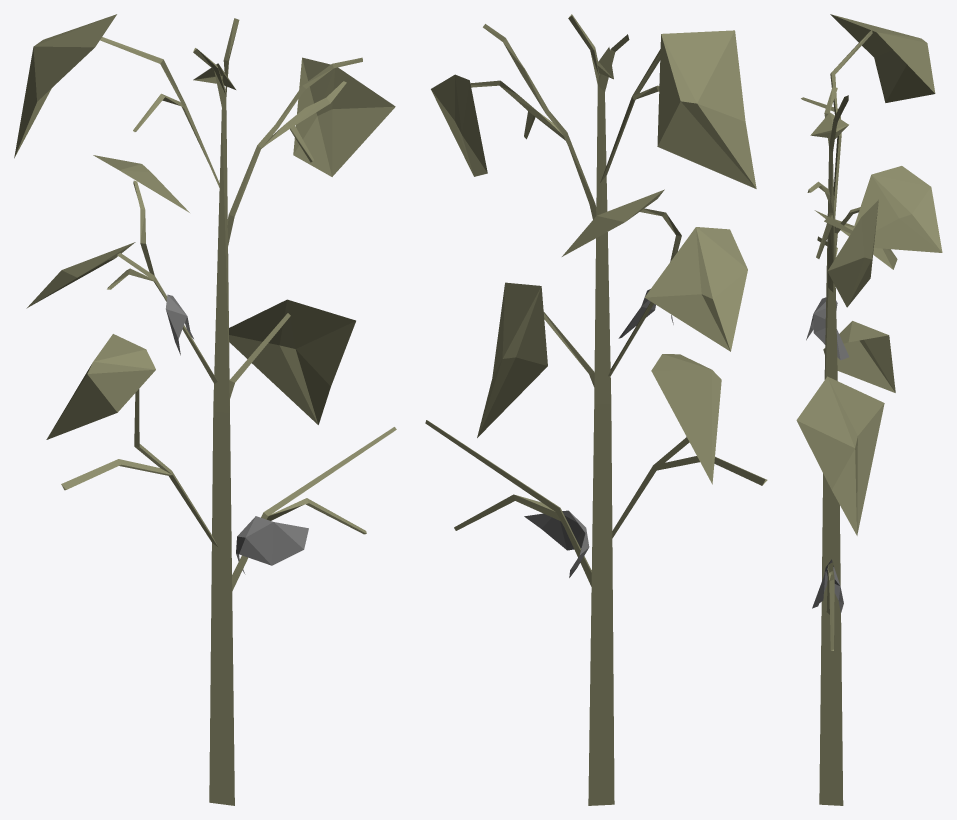
The model's file is Beans_6.fbx.
3 renders of one model, left to right at view 1: azimuth 30°, elevation 25°; view 2: azimuth 150°, elevation 25°; view 3: azimuth 270°, elevation 25°, orthographic. The views are drawn at different scales.
Visible parts, largest first — view 1: Beans_7; view 2: Beans_7; view 3: Beans_7.
Part boxes in pixels (x1,y1,x2,y2): Beans_7: (14, 14, 396, 805); Beans_7: (425, 14, 767, 805); Beans_7: (796, 14, 942, 805).
Bounding box in the file's own units: 42.62 × 91.24 × 16.47.
